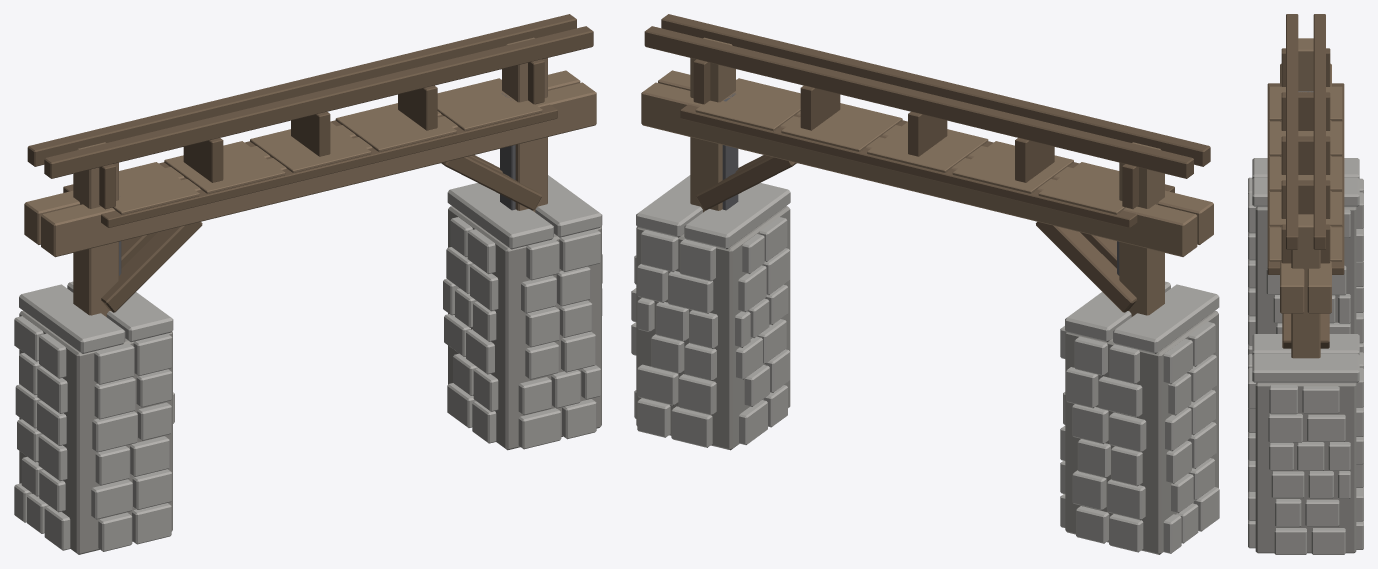
Rendered from gate.glb.
The picture shows the model from 3 angles, left to right: view 1: azimuth 30°, elevation 25°; view 2: azimuth 150°, elevation 25°; view 3: azimuth 270°, elevation 25°; orthographic projection. The views are drawn at different scales.
Visible parts, largest first — view 1: StoneF_-3.0_0, Brace_-1, Post_-3.0, PierBack_-3.0, Strap_-3.0; view 2: StoneF_-3.0_0, Brace_-1, Post_-3.0, PierBack_-3.0, Strap_-3.0; view 3: StoneF_-3.0_0, Brace_-1, Post_-3.0, PierBack_-3.0.
Boxes of the visible parts, x1=… form: StoneF_-3.0_0: x1=14, y1=175, x2=602, y2=551; Brace_-1: x1=27, y1=14, x2=593, y2=312; Post_-3.0: x1=24, y1=37, x2=596, y2=316; PierBack_-3.0: x1=19, y1=206, x2=601, y2=554; Strap_-3.0: x1=119, y1=93, x2=515, y2=275; StoneF_-3.0_0: x1=631, y1=175, x2=1219, y2=553; Brace_-1: x1=644, y1=14, x2=1210, y2=312; Post_-3.0: x1=641, y1=37, x2=1213, y2=316; PierBack_-3.0: x1=636, y1=206, x2=1218, y2=554; Strap_-3.0: x1=722, y1=93, x2=1119, y2=275; StoneF_-3.0_0: x1=1248, y1=158, x2=1363, y2=554; Brace_-1: x1=1267, y1=14, x2=1344, y2=348; Post_-3.0: x1=1269, y1=38, x2=1342, y2=358; PierBack_-3.0: x1=1255, y1=206, x2=1356, y2=553.
Bounding box in the file's own units: 7.6 × 5.11 × 1.67.
